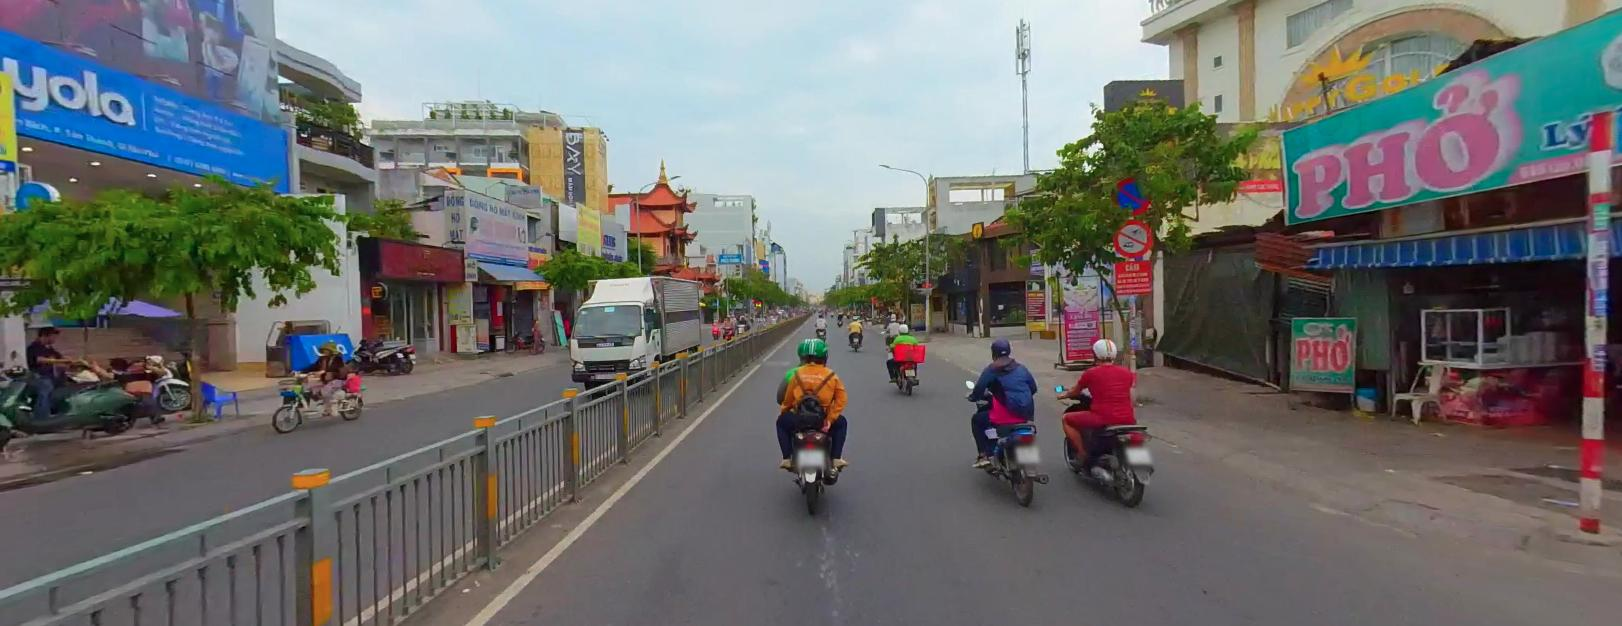Cam con lai: (1107, 216, 1154, 255)
Cam dung va do: (1109, 174, 1152, 215)
